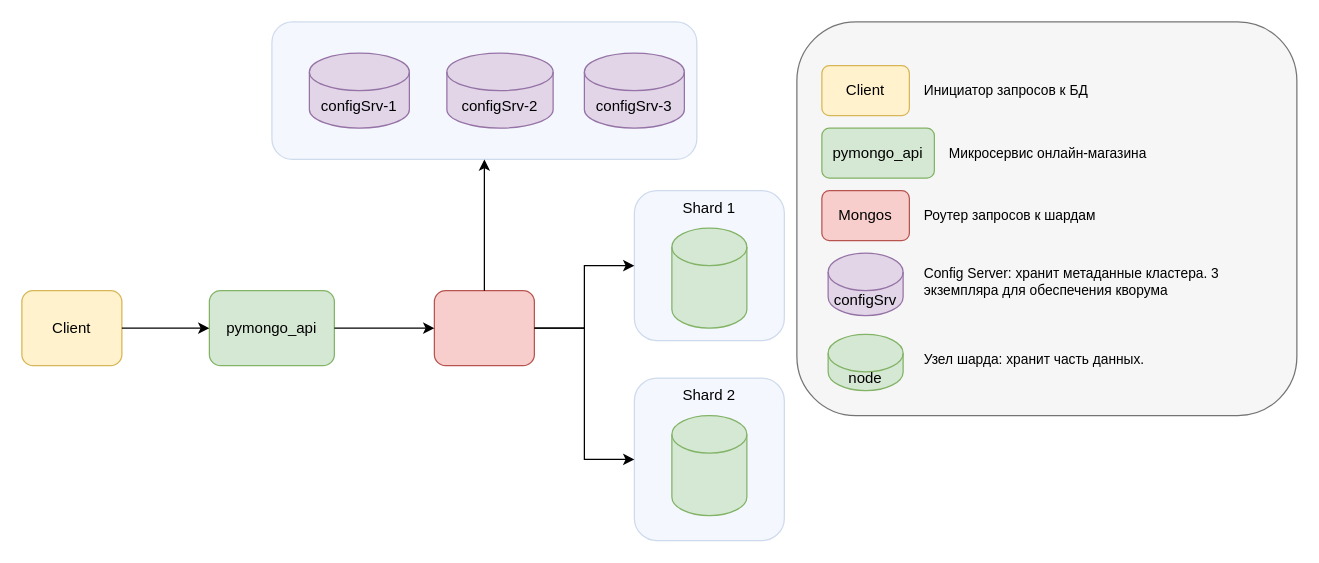
Image size: 1319x563. Some labels were removed from this diagram. The box of each missing label's shape, as (x1, y1, x2, y2) in pixels:
Config Servers: (271, 21, 697, 159)
Legend: (796, 21, 1297, 416)
Mongos (Router): (433, 289, 534, 366)
shard1: (671, 227, 747, 328)
shard2: (671, 414, 747, 516)
